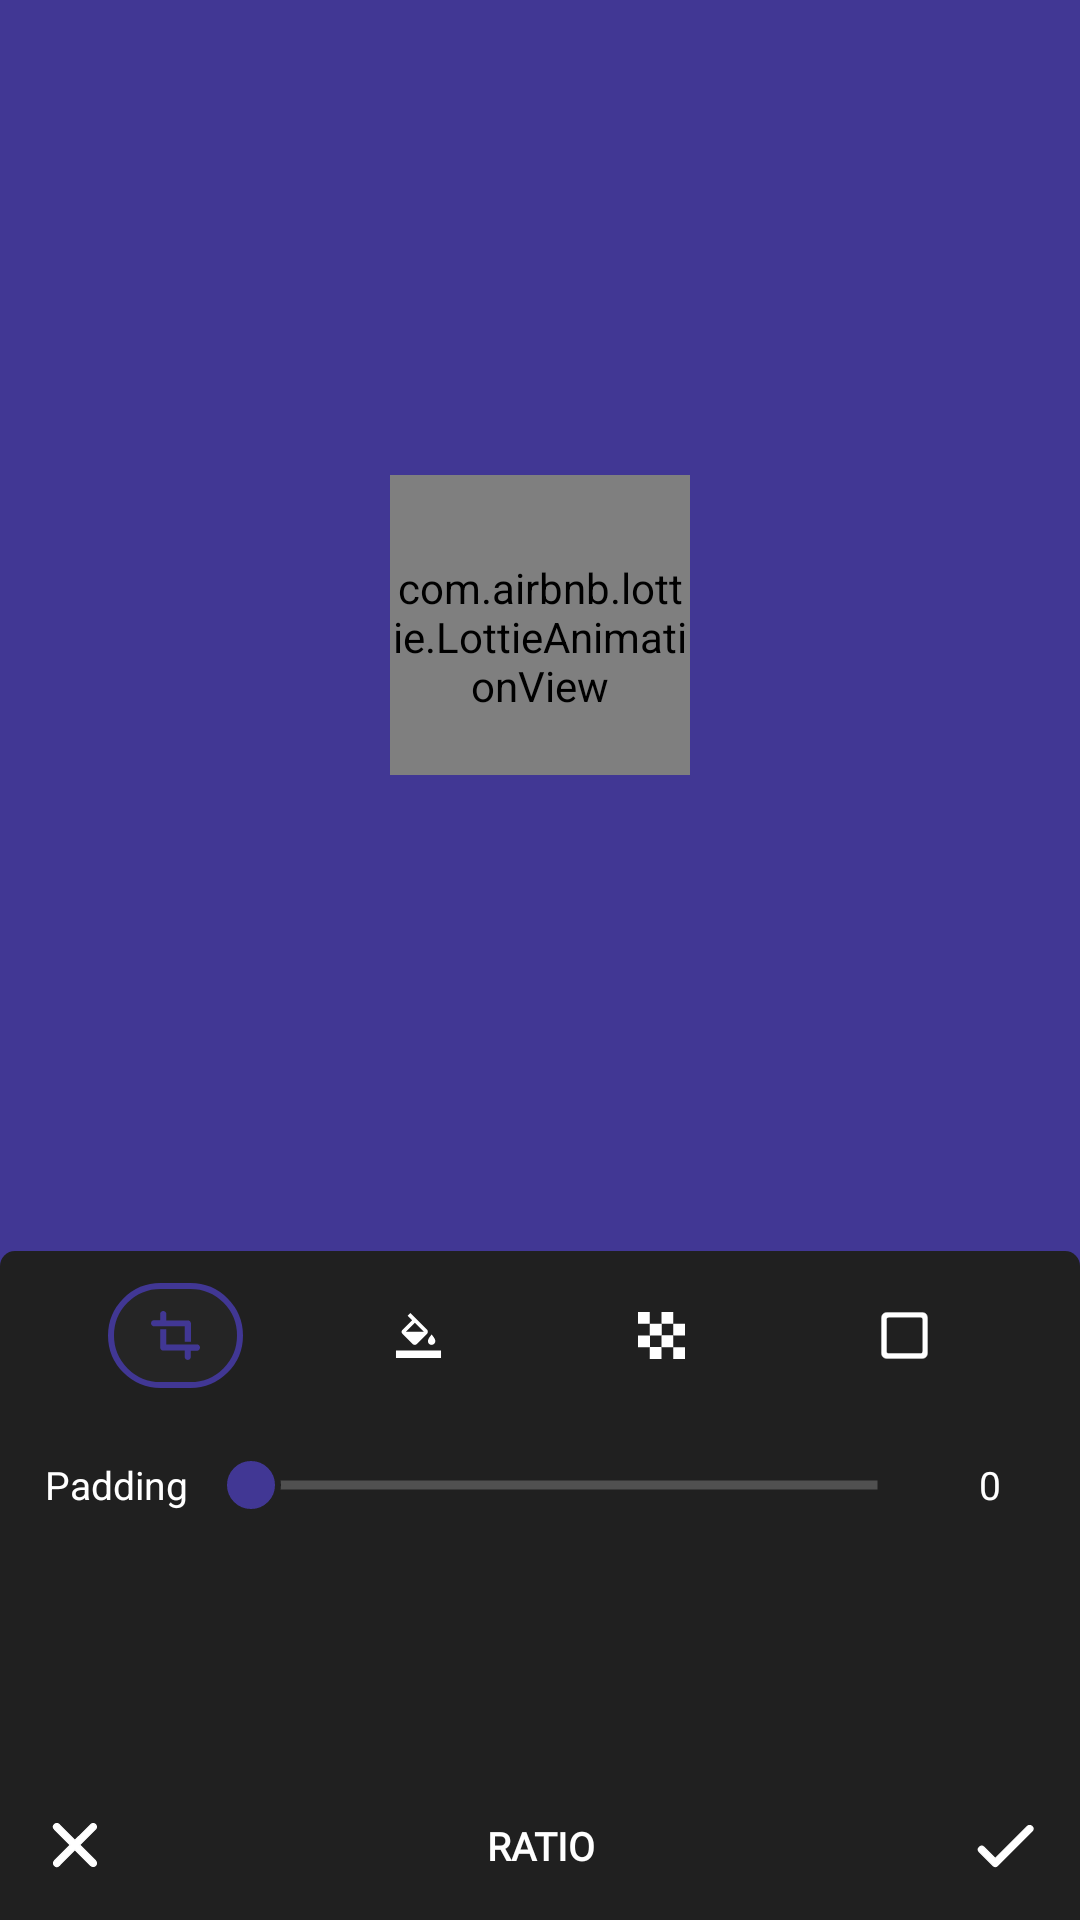

Point at icon controls on the screen. Image size 1080x1920, points as [x,y].
check: [1005,1846]
close: [74,1845]
crop: [175,1335]
